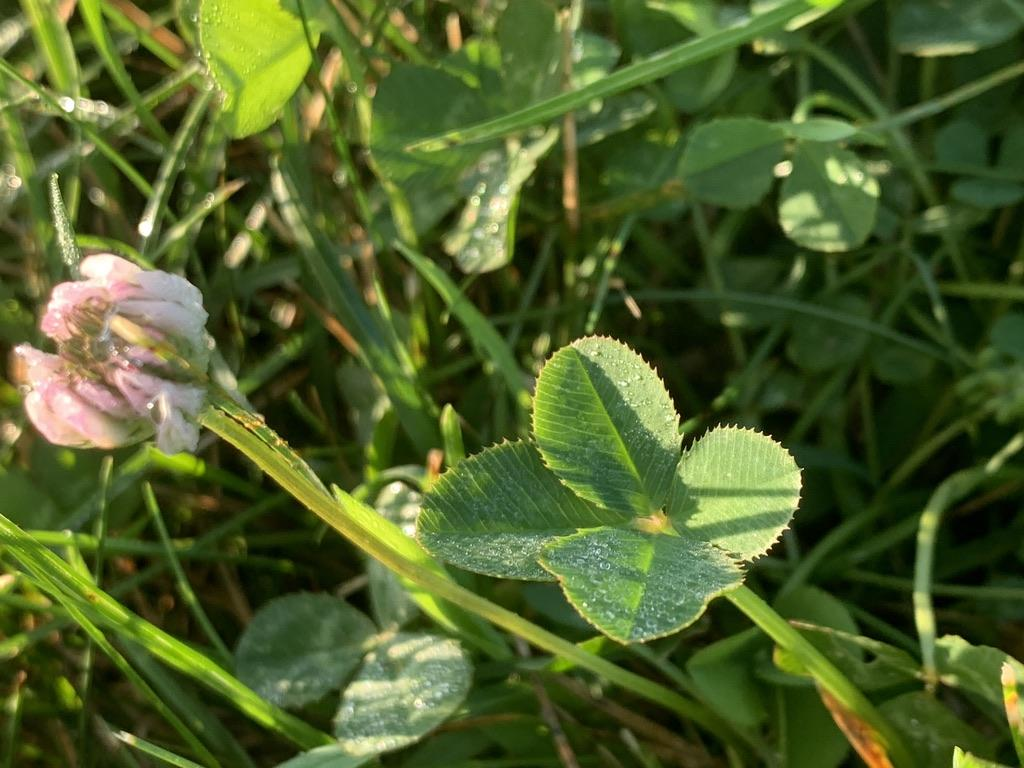4-Leaf-Clovers: (426, 338, 803, 640)
